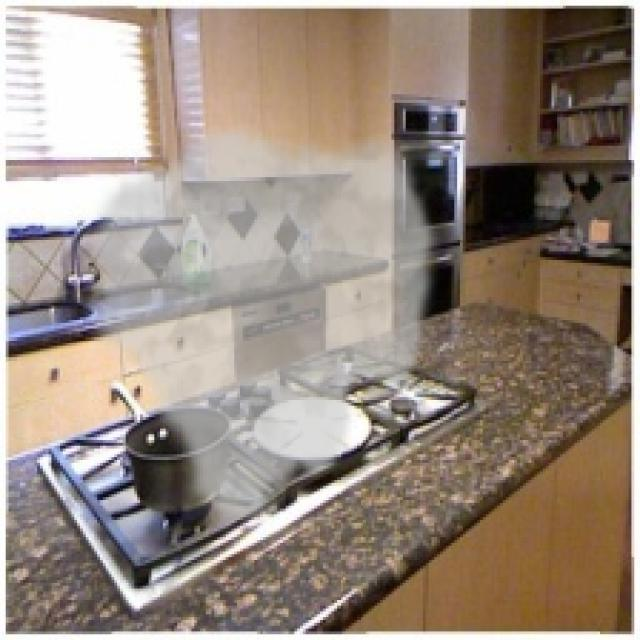Smoke: (77, 120, 443, 534)
